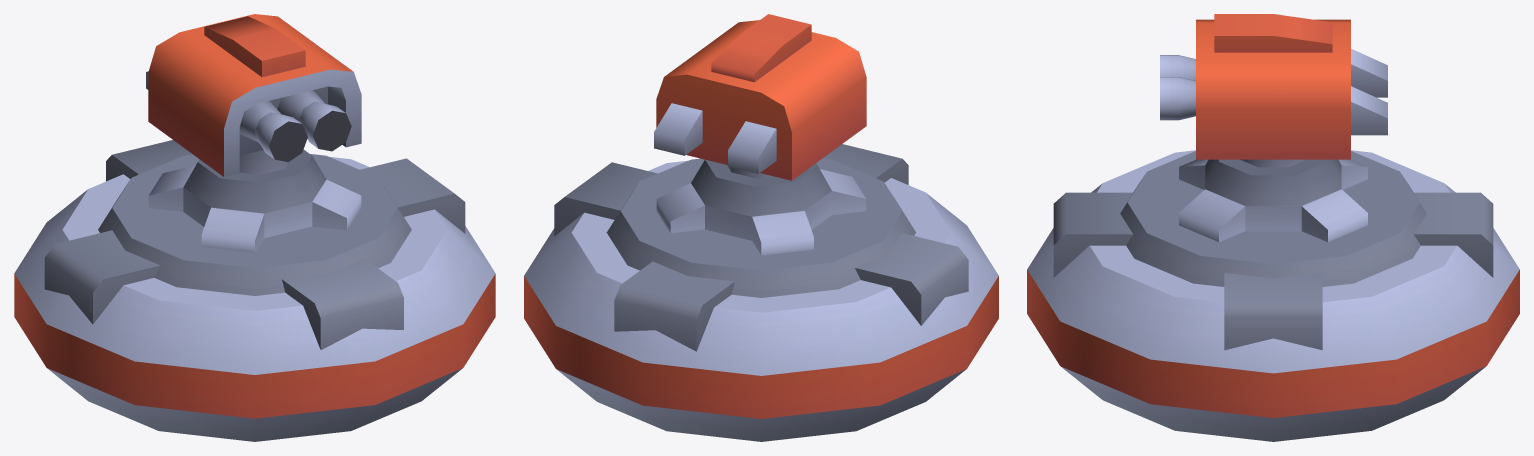
Rendered from kenney-tower-defense-enemy-ufo-a-weapon.glb.
The picture shows the model from 3 angles, left to right: view 1: azimuth 30°, elevation 25°; view 2: azimuth 150°, elevation 25°; view 3: azimuth 270°, elevation 25°; orthographic projection. The views are drawn at different scales.
Parts seen in each view (by area): view 1: enemy-ufo-a-weapon, barrel; view 2: enemy-ufo-a-weapon, barrel; view 3: enemy-ufo-a-weapon, barrel.
Part boxes in pixels (x1,y1,x2,y2): enemy-ufo-a-weapon: [14, 140, 495, 441]; barrel: [146, 14, 361, 176]; enemy-ufo-a-weapon: [524, 144, 998, 441]; barrel: [654, 14, 866, 180]; enemy-ufo-a-weapon: [1027, 150, 1519, 441]; barrel: [1160, 14, 1387, 159].
Bounding box in the file's own units: 1 × 0.7475 × 1.
Materials: 1 (1 with a texture image).
